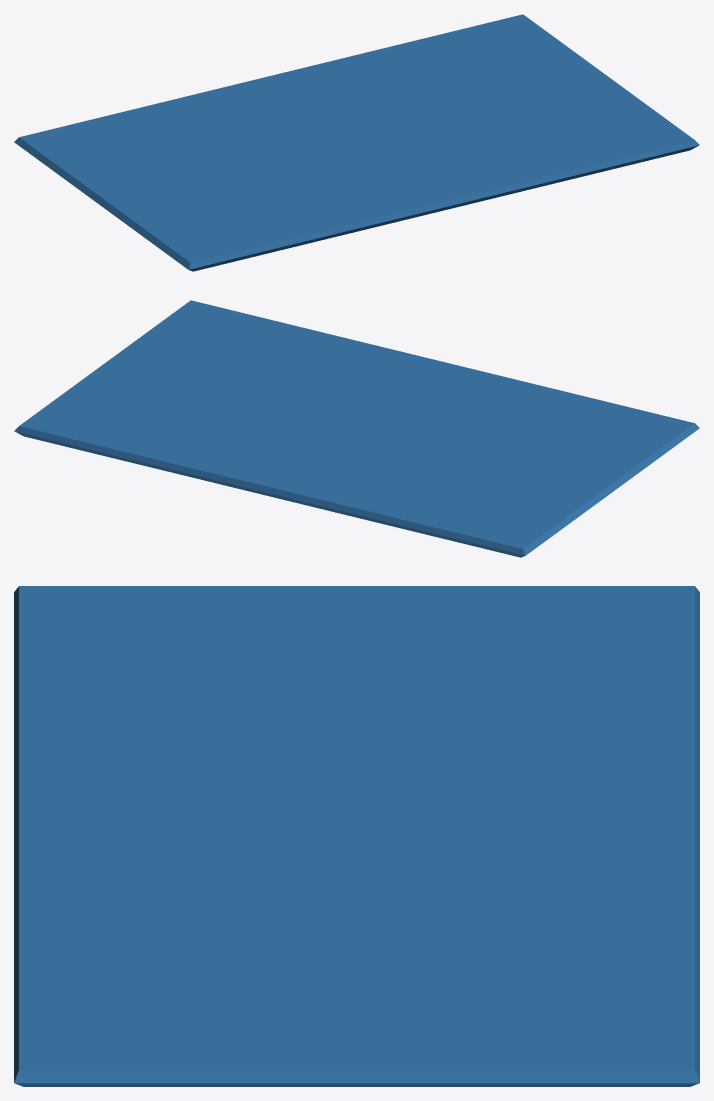
File: Individual.fbx
The picture shows the model from 3 angles, top to bottom: view 1: azimuth 30°, elevation 25°; view 2: azimuth 150°, elevation 25°; view 3: azimuth 270°, elevation 25°; orthographic projection. The views are drawn at different scales.
Visible parts, largest first — view 1: pPlane8; view 2: pPlane8; view 3: pPlane8.
Part boxes in pixels (bbox=[...]): pPlane8: bbox=[14, 14, 699, 271]; pPlane8: bbox=[14, 300, 699, 557]; pPlane8: bbox=[14, 586, 699, 1086].
Bounding box in the file's own units: 0.6224 × 0.012 × 0.3676.
